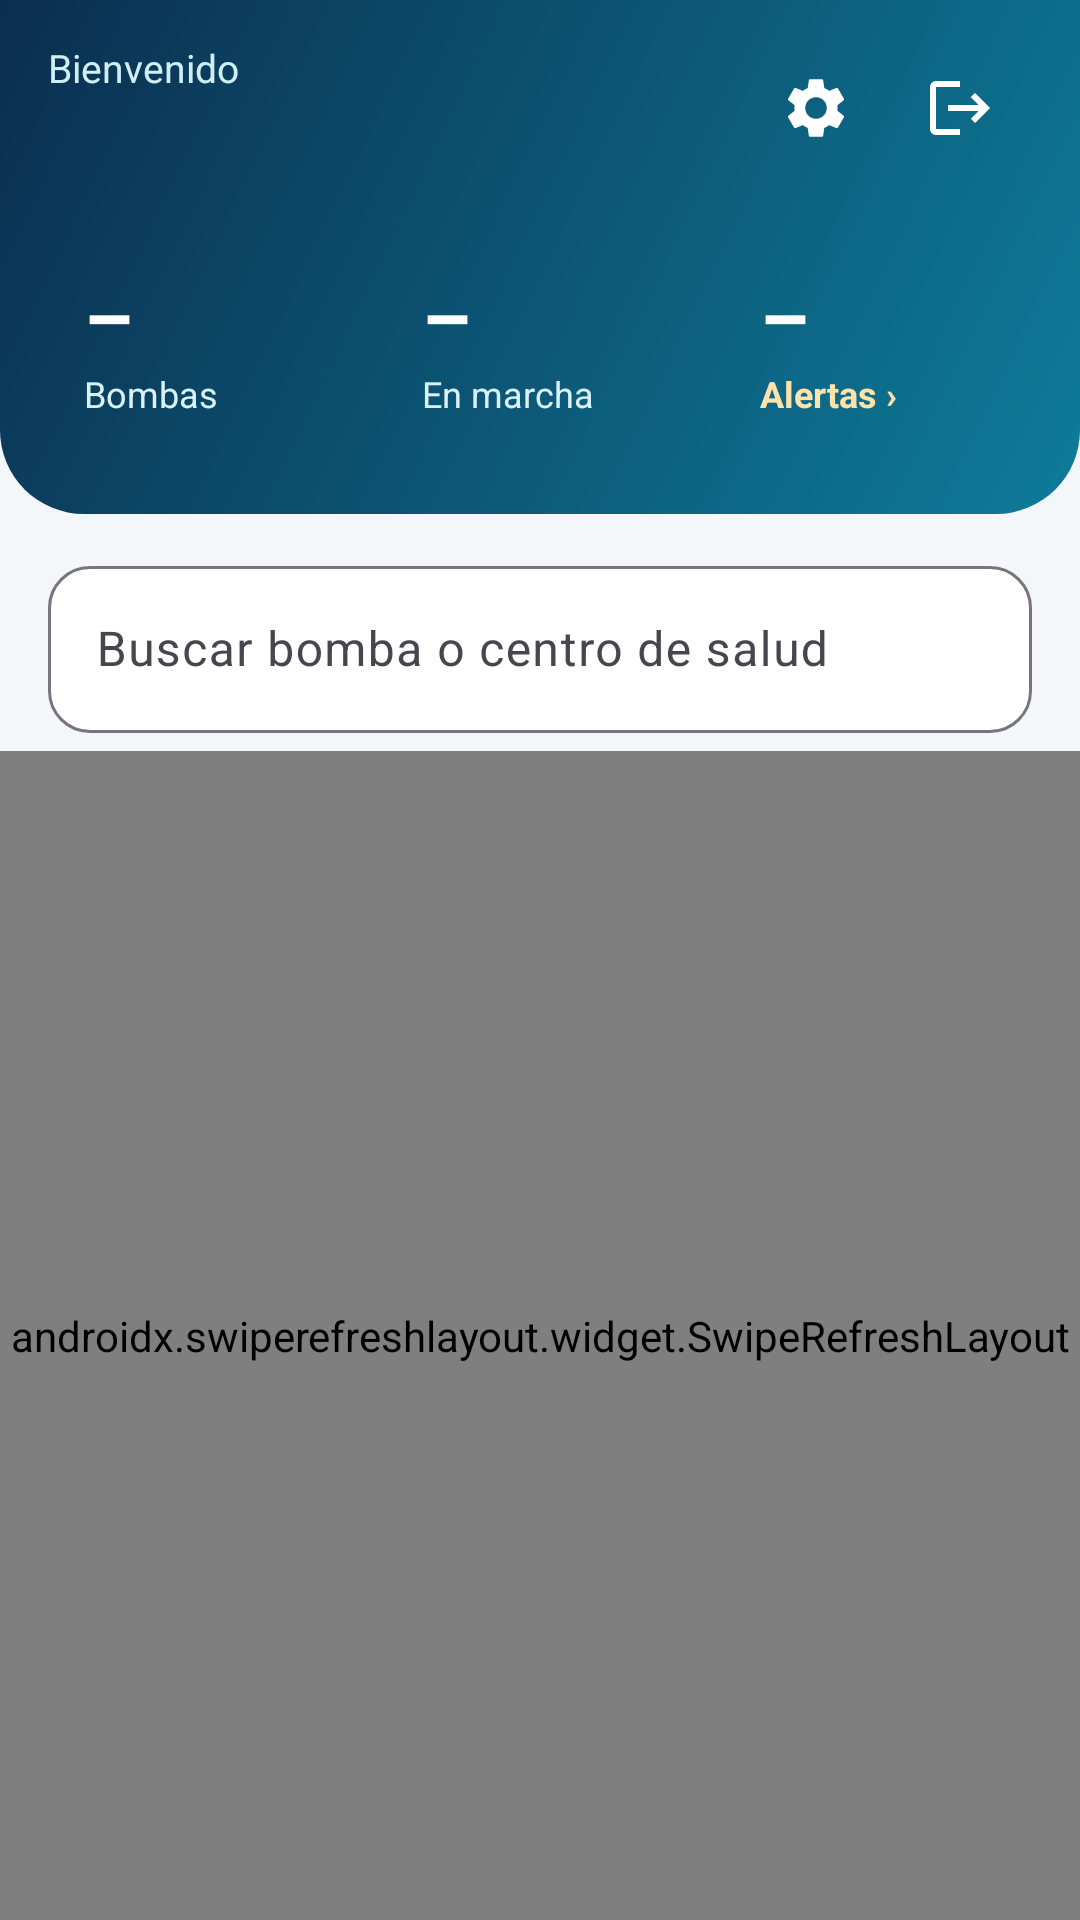

Screen size 1080*1920. Icon name, then its center in pixels as point (x, y):
Cerrar sesión: point (960, 108)
